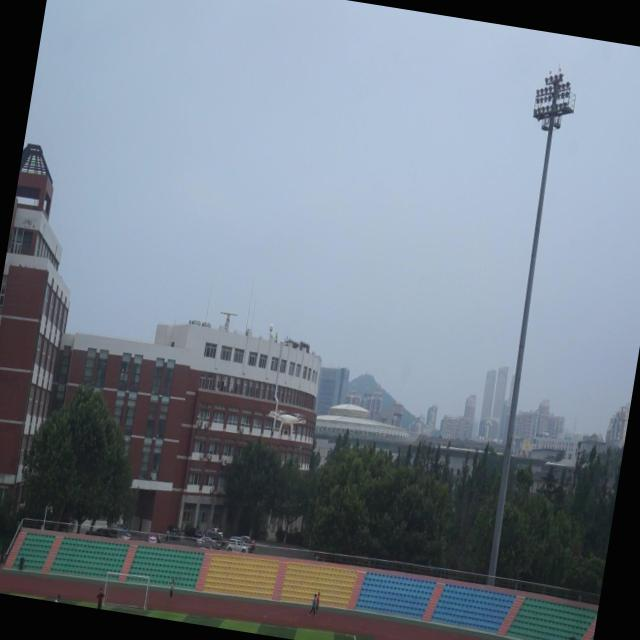drone: (261, 402, 310, 445)
